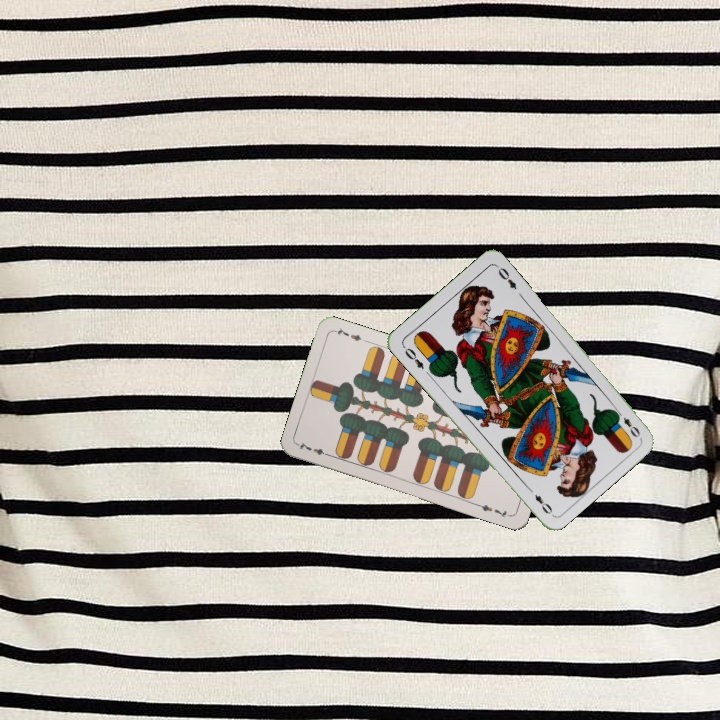E7: (294, 438, 334, 459)
EO: (612, 406, 643, 440), (399, 342, 427, 372)
